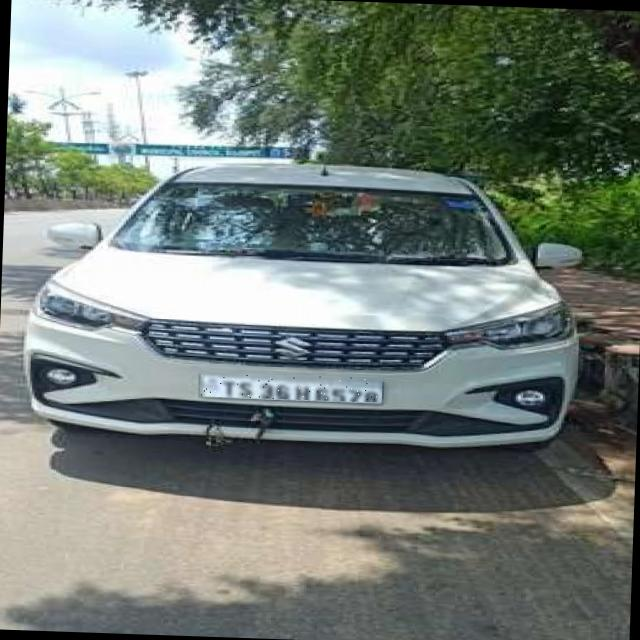Plate: (200, 373, 383, 403)
